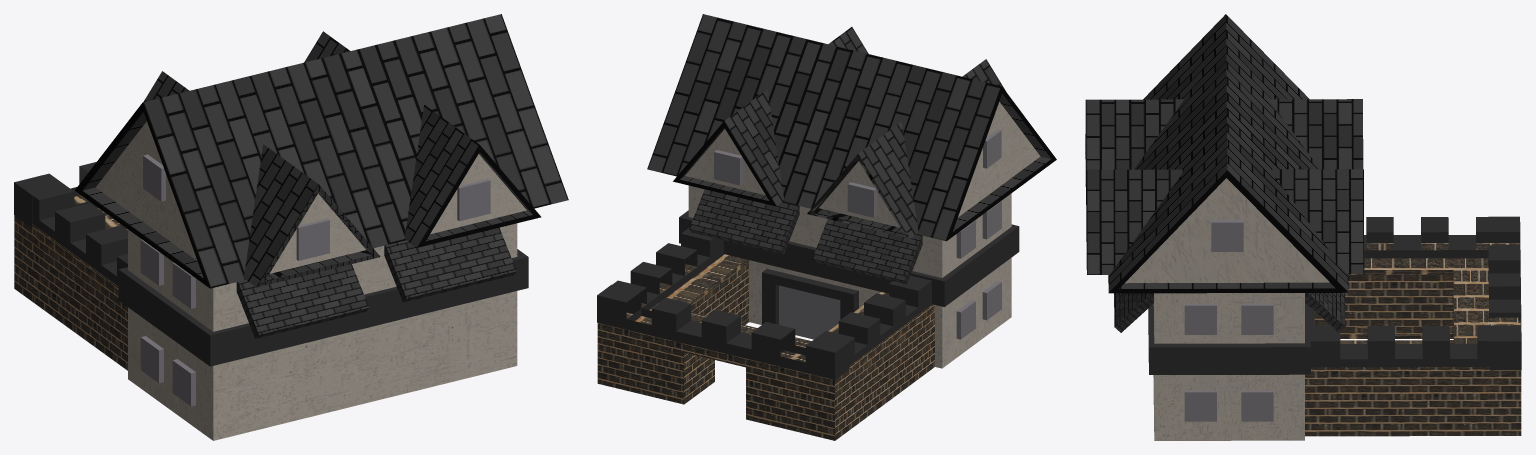
Rendered from Barrack.fbx.
3 views of the same model, side by side, from view 1: azimuth 30°, elevation 25°; view 2: azimuth 150°, elevation 25°; view 3: azimuth 270°, elevation 25° (orthographic). The views are drawn at different scales.
Visible parts, largest first — view 1: Cube.003, Cube.001, Cube.016, Cube, Cube.004, Cube.002, Cube.006, Cube.022, Cube.021, Cube.008, Cube.005, Cube.007 (+7 smaller); view 2: Cube.003, Cube, Cube.006, Cube.001, Cube.016, Cube.004, Cube.002, Cube.009, Cube.010, Cube.008, Cube.029, Cube.011 (+9 smaller); view 3: Cube.003, Cube, Cube.006, Cube.001, Cube.004, Cube.002, Cube.008, Cube.016, Cube.022, Cube.027, Cube.009, Cube.018 (+3 smaller).
Boxes of the visible parts, x1=… form: Cube.003: x1=75, y1=14, x2=568, y2=288; Cube.001: x1=128, y1=223, x2=517, y2=440; Cube.016: x1=118, y1=249, x2=528, y2=366; Cube: x1=14, y1=195, x2=127, y2=370; Cube.004: x1=304, y1=31, x2=541, y2=247; Cube.002: x1=143, y1=71, x2=380, y2=287; Cube.006: x1=14, y1=162, x2=127, y2=286; Cube.022: x1=384, y1=227, x2=516, y2=302; Cube.021: x1=236, y1=264, x2=368, y2=338; Cube.008: x1=96, y1=121, x2=197, y2=260; Cube.005: x1=430, y1=154, x2=526, y2=234; Cube.007: x1=269, y1=193, x2=365, y2=273; Cube.003: x1=647, y1=14, x2=1056, y2=241; Cube: x1=597, y1=254, x2=934, y2=440; Cube.006: x1=597, y1=227, x2=932, y2=379; Cube.001: x1=688, y1=185, x2=1011, y2=368; Cube.016: x1=679, y1=210, x2=1019, y2=306; Cube.004: x1=673, y1=27, x2=868, y2=206; Cube.002: x1=807, y1=59, x2=1005, y2=238; Cube.009: x1=689, y1=189, x2=799, y2=254; Cube.010: x1=812, y1=219, x2=922, y2=284; Cube.008: x1=958, y1=102, x2=1040, y2=217; Cube.029: x1=779, y1=285, x2=840, y2=339; Cube.011: x1=762, y1=269, x2=858, y2=324; Cube.003: x1=1108, y1=14, x2=1348, y2=293; Cube: x1=1305, y1=243, x2=1521, y2=436; Cube.006: x1=1310, y1=216, x2=1521, y2=370; Cube.001: x1=1153, y1=293, x2=1304, y2=440; Cube.004: x1=1086, y1=169, x2=1364, y2=274; Cube.002: x1=1085, y1=99, x2=1363, y2=204; Cube.008: x1=1125, y1=178, x2=1329, y2=283; Cube.016: x1=1148, y1=303, x2=1310, y2=374; Cube.022: x1=1114, y1=293, x2=1153, y2=332; Cube.027: x1=1211, y1=219, x2=1243, y2=251; Cube.009: x1=1305, y1=292, x2=1345, y2=332; Cube.018: x1=1241, y1=303, x2=1273, y2=334.
Size of the model in its own units: 292 by 244 by 343.
